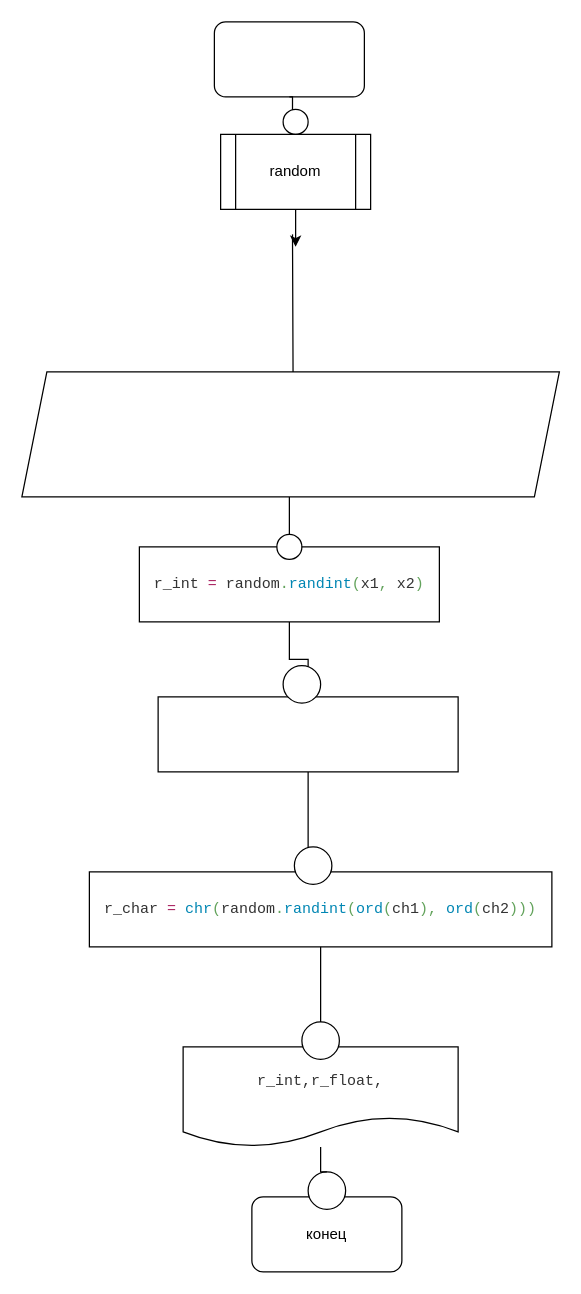
The diagram is 581 pixels wide and 1294 high, and some of its shapes have lost their labels. The shapes that lost their labels are listed below. From the top down, each one's box as (x1, y1, x2, y2) in pixels, then its label:
(213, 21, 364, 97): начало
(21, 371, 559, 497): x1, y1, x2, y2, ch1, ch2
(157, 696, 458, 772): r_float = random . uniform ( y1 , y2 )
